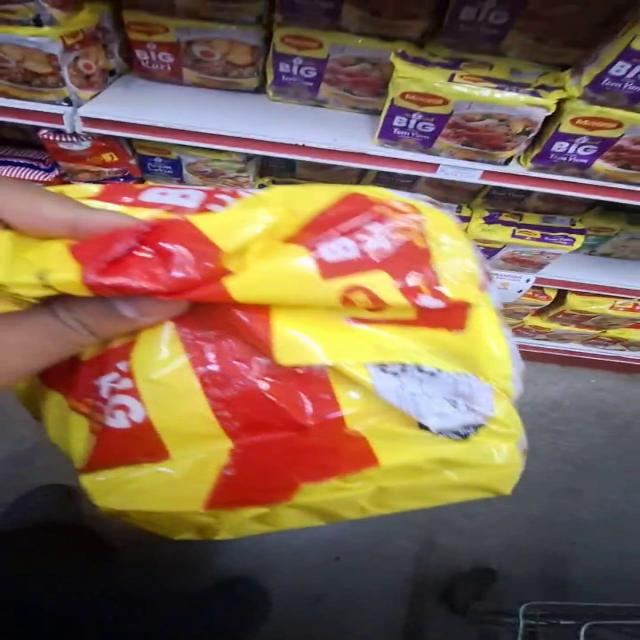Maggi: (22, 162, 548, 526), (393, 59, 536, 171), (116, 12, 259, 92), (0, 24, 123, 109), (273, 36, 394, 112), (548, 108, 640, 178)
